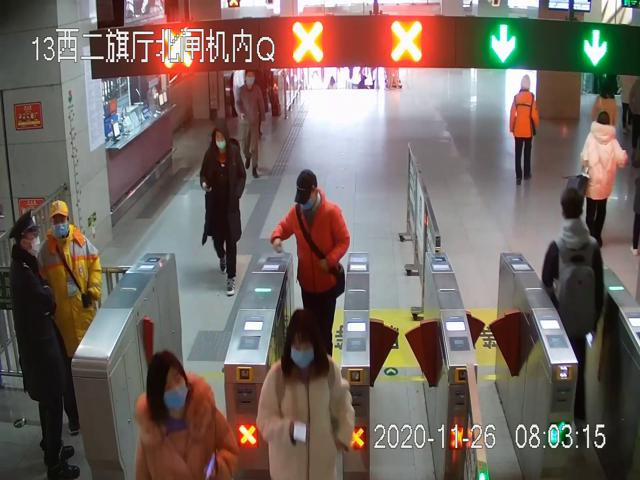person: (5, 210, 78, 480), (257, 308, 355, 480), (542, 188, 605, 449), (35, 200, 104, 436), (270, 170, 350, 367), (198, 122, 247, 297), (235, 71, 268, 180), (509, 74, 539, 187)
